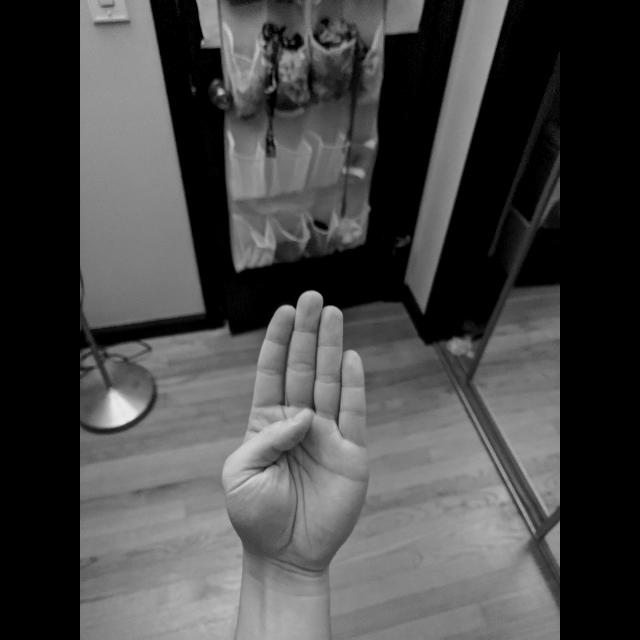B: (215, 286, 373, 580)
